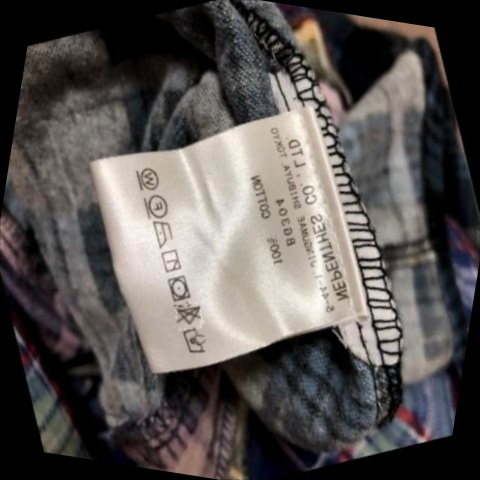DN_bleach: (171, 299, 206, 330)
dry_clean_any_solvent_except_trichloroethylene: (134, 186, 176, 226)
hand_wash: (178, 323, 211, 357)
iron_low: (144, 216, 180, 255)
tumble_dry_low: (160, 270, 197, 308)
wet_clean: (130, 159, 165, 195)
